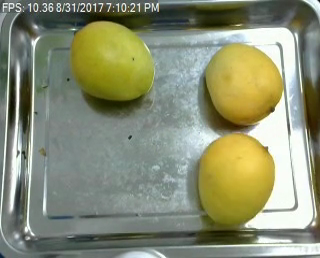Mango: (56, 16, 156, 106), (197, 131, 281, 230), (200, 40, 283, 125)
